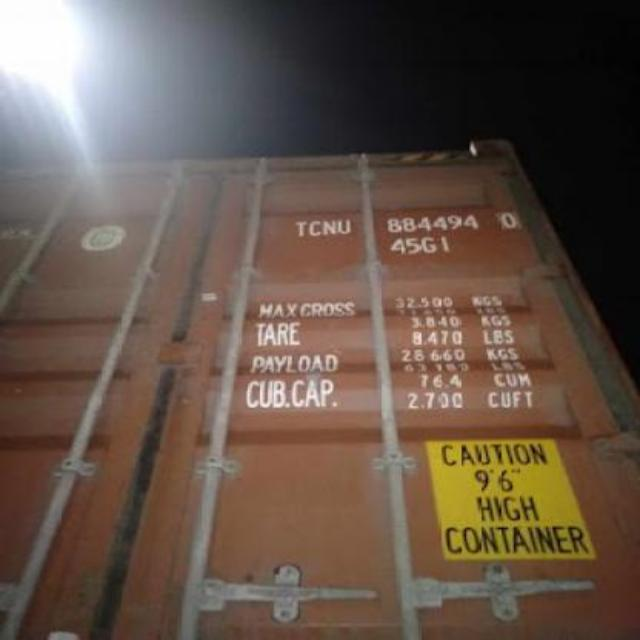0: (500, 211, 516, 229)
4: (434, 213, 450, 231), (464, 213, 480, 229), (418, 216, 432, 230)
8: (402, 214, 418, 236), (386, 216, 399, 232)
9: (448, 211, 462, 229)
C: (308, 218, 326, 238)
N: (324, 218, 338, 234)
T: (294, 218, 308, 238)
U: (336, 218, 352, 232)
